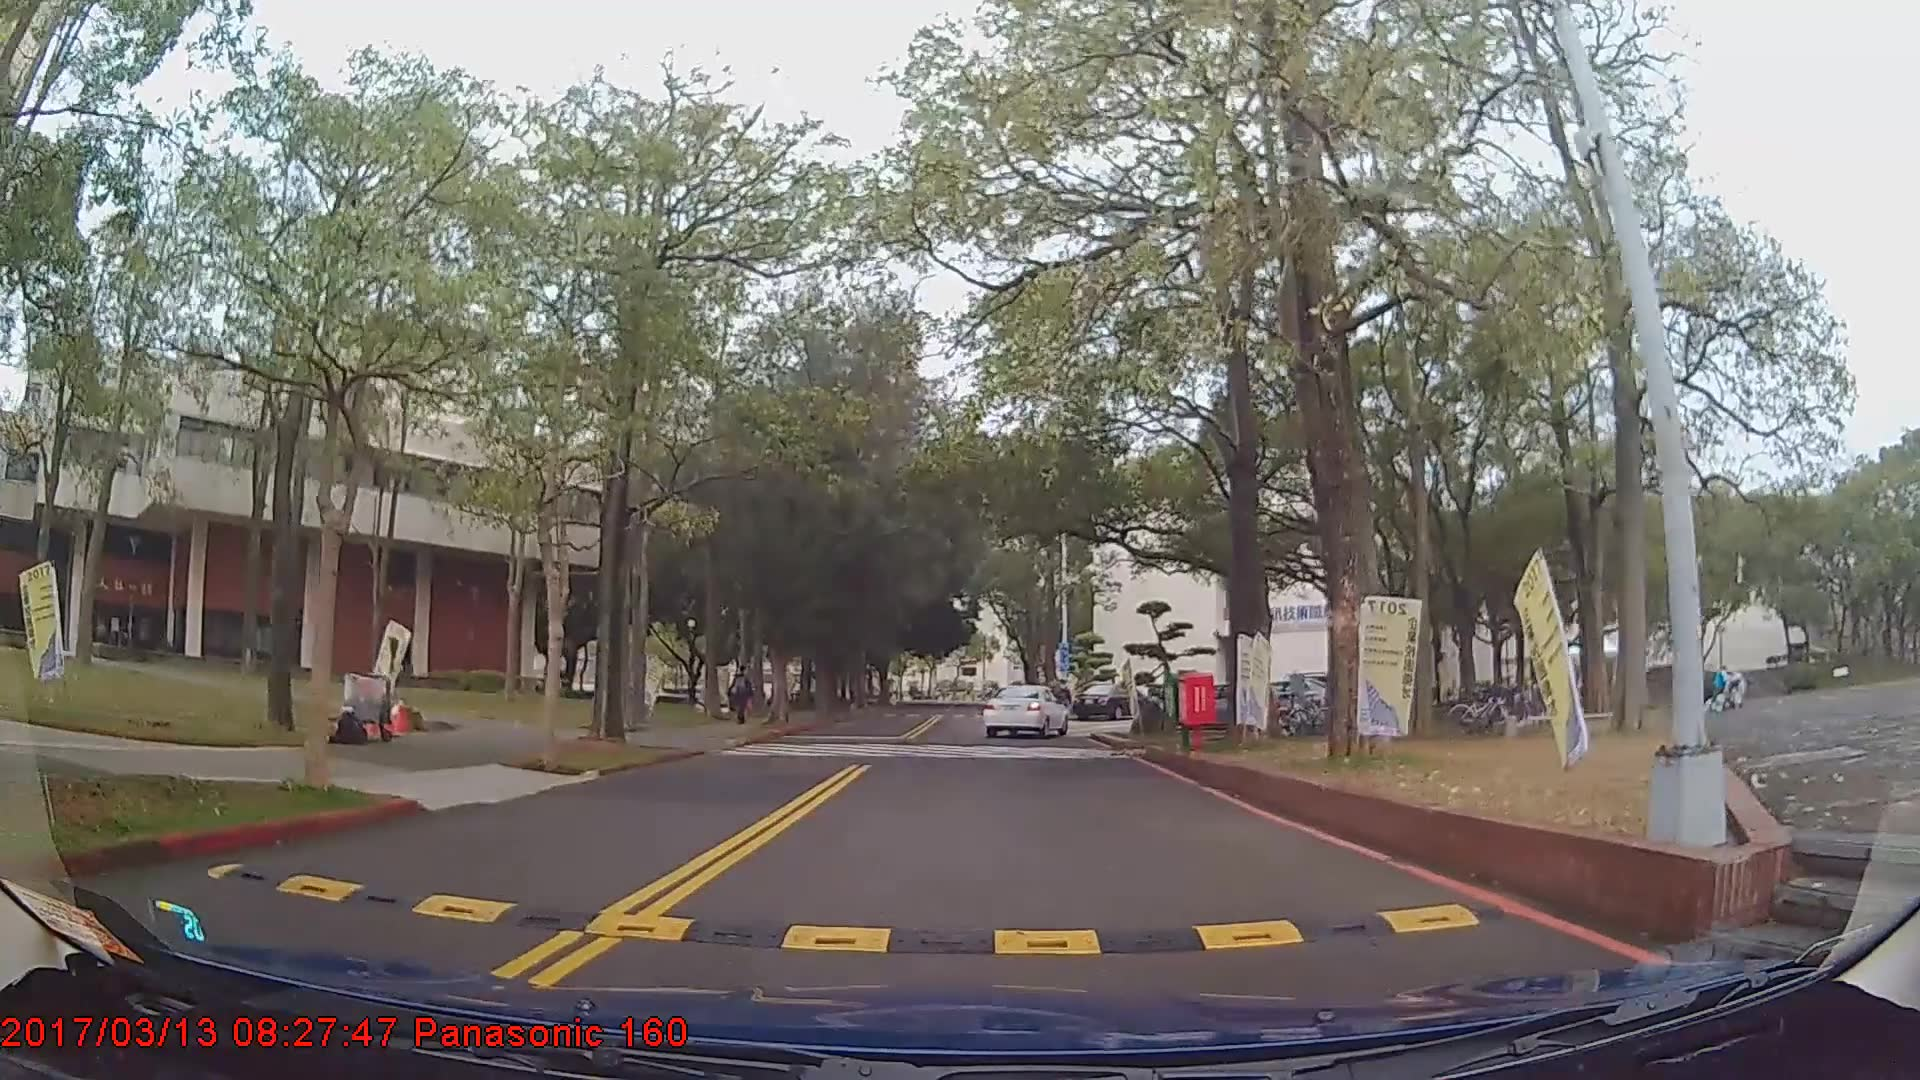pedestrian: (726, 666, 758, 728)
vehicle: (982, 682, 1070, 739), (1071, 681, 1145, 720)
